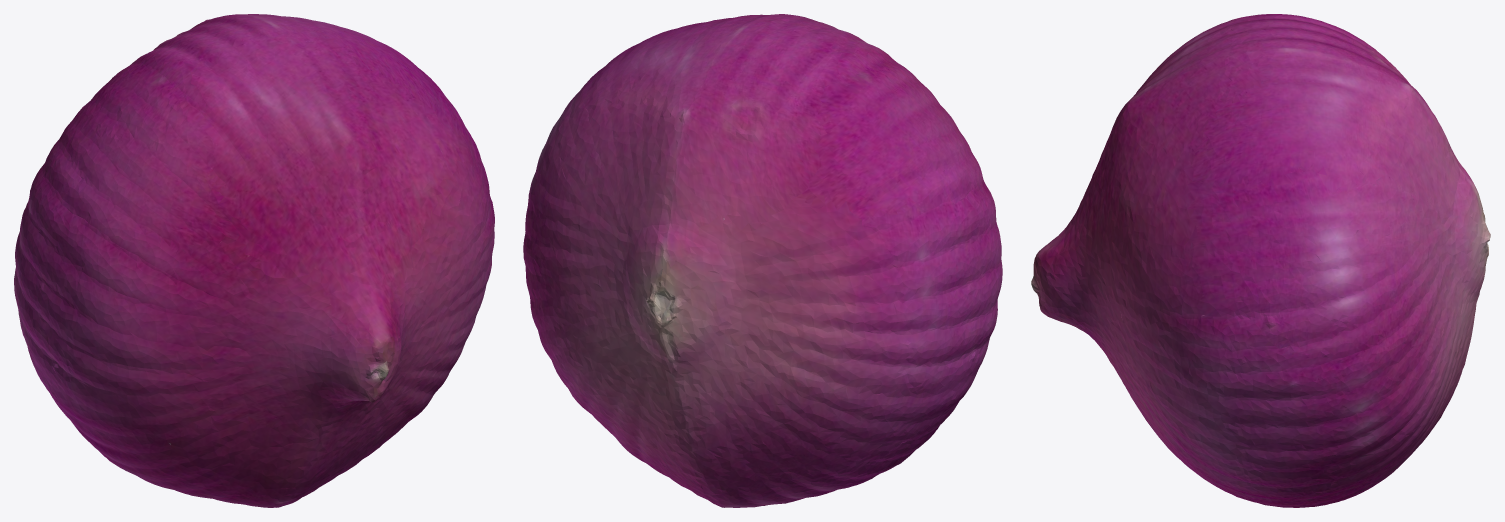
The model's file is onion.obj.
The picture shows the model from 3 angles, left to right: view 1: azimuth 30°, elevation 25°; view 2: azimuth 150°, elevation 25°; view 3: azimuth 270°, elevation 25°; orthographic projection.
Parts seen in each view (by area): view 1: onion; view 2: onion; view 3: onion.
Part boxes in pixels (x1,y1,x2,y2): onion: (14, 14, 494, 507); onion: (523, 14, 1002, 507); onion: (1031, 14, 1490, 507).
Bounding box in the file's own units: 0.0751 × 0.0761 × 0.0711.
